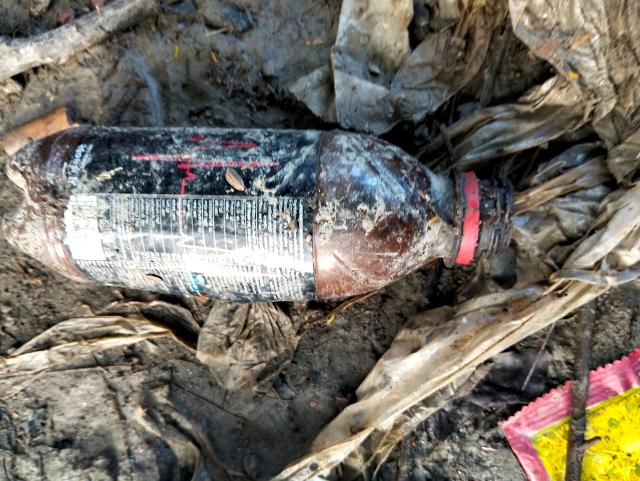bottle: (14, 121, 510, 315)
